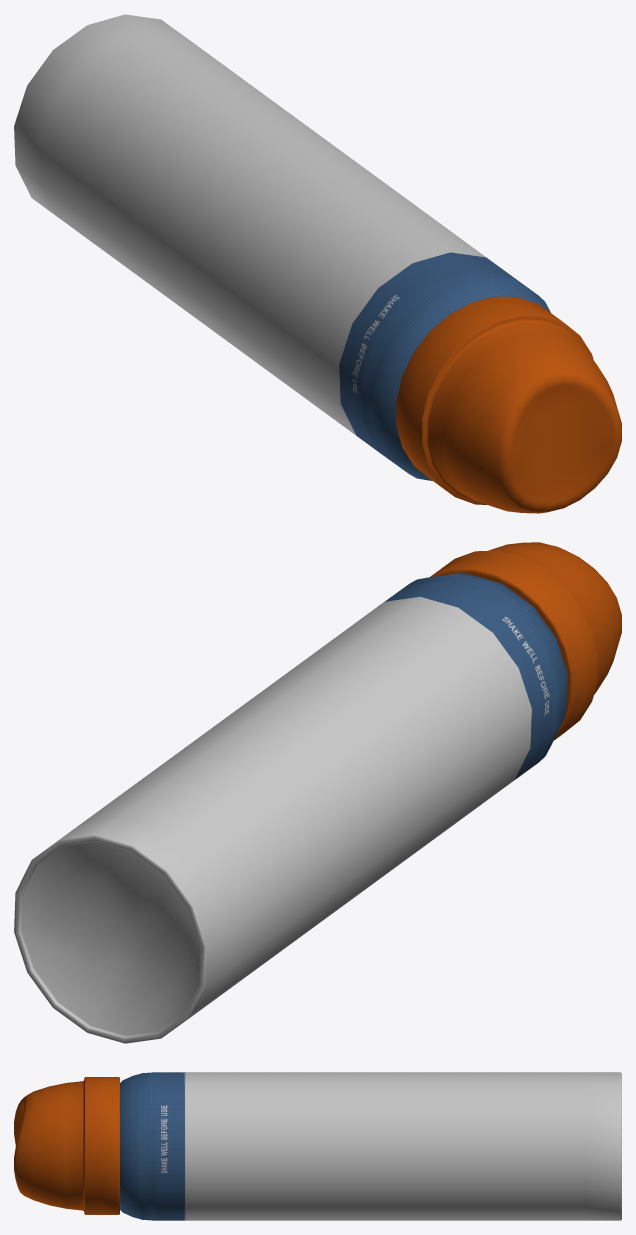
File: spray-can.obj
3 renders of one model, top to bottom at view 1: azimuth 30°, elevation 25°; view 2: azimuth 150°, elevation 25°; view 3: azimuth 270°, elevation 25°, orthographic. The views are drawn at different scales.
Parts seen in each view (by area): view 1: bottle_pivot, cup_pivot; view 2: bottle_pivot, cup_pivot; view 3: bottle_pivot, cup_pivot.
Part boxes in pixels (<box>): bottle_pivot: <box>14,14,550,480</box>; cup_pivot: <box>396,296,621,513</box>; bottle_pivot: <box>14,573,567,1043</box>; cup_pivot: <box>430,542,621,740</box>; bottle_pivot: <box>120,1072,621,1220</box>; cup_pivot: <box>14,1077,119,1214</box>.
Size of the model in its own units: 4.62 by 4.62 by 18.84.
